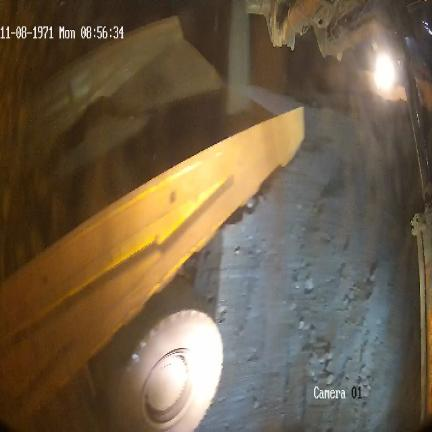pile: (55, 111, 139, 172)
